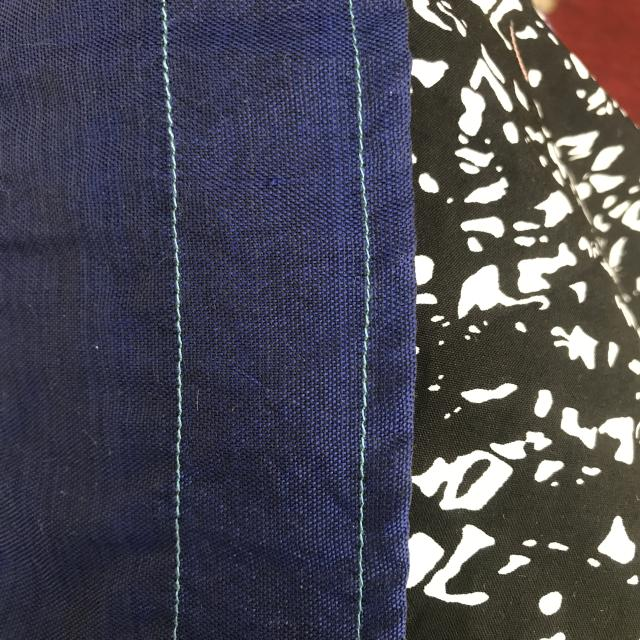good: (158, 268, 199, 620), (345, 45, 387, 296), (348, 332, 382, 598), (153, 57, 186, 242)
